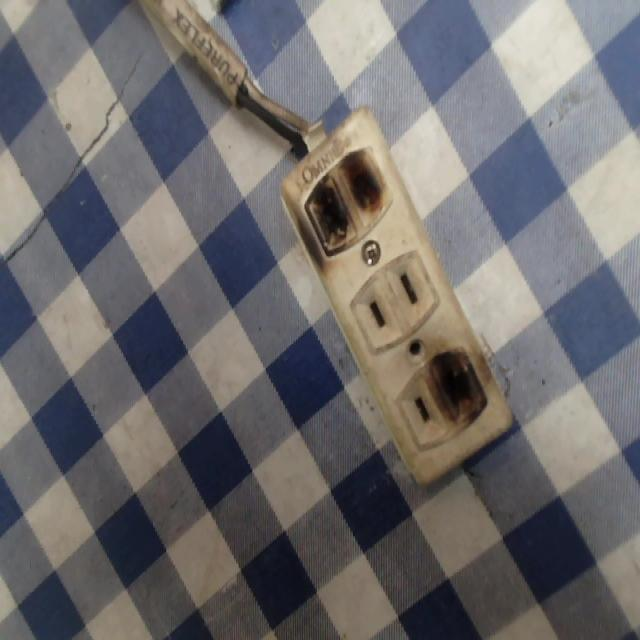-: (296, 144, 388, 259), (423, 344, 491, 431)
